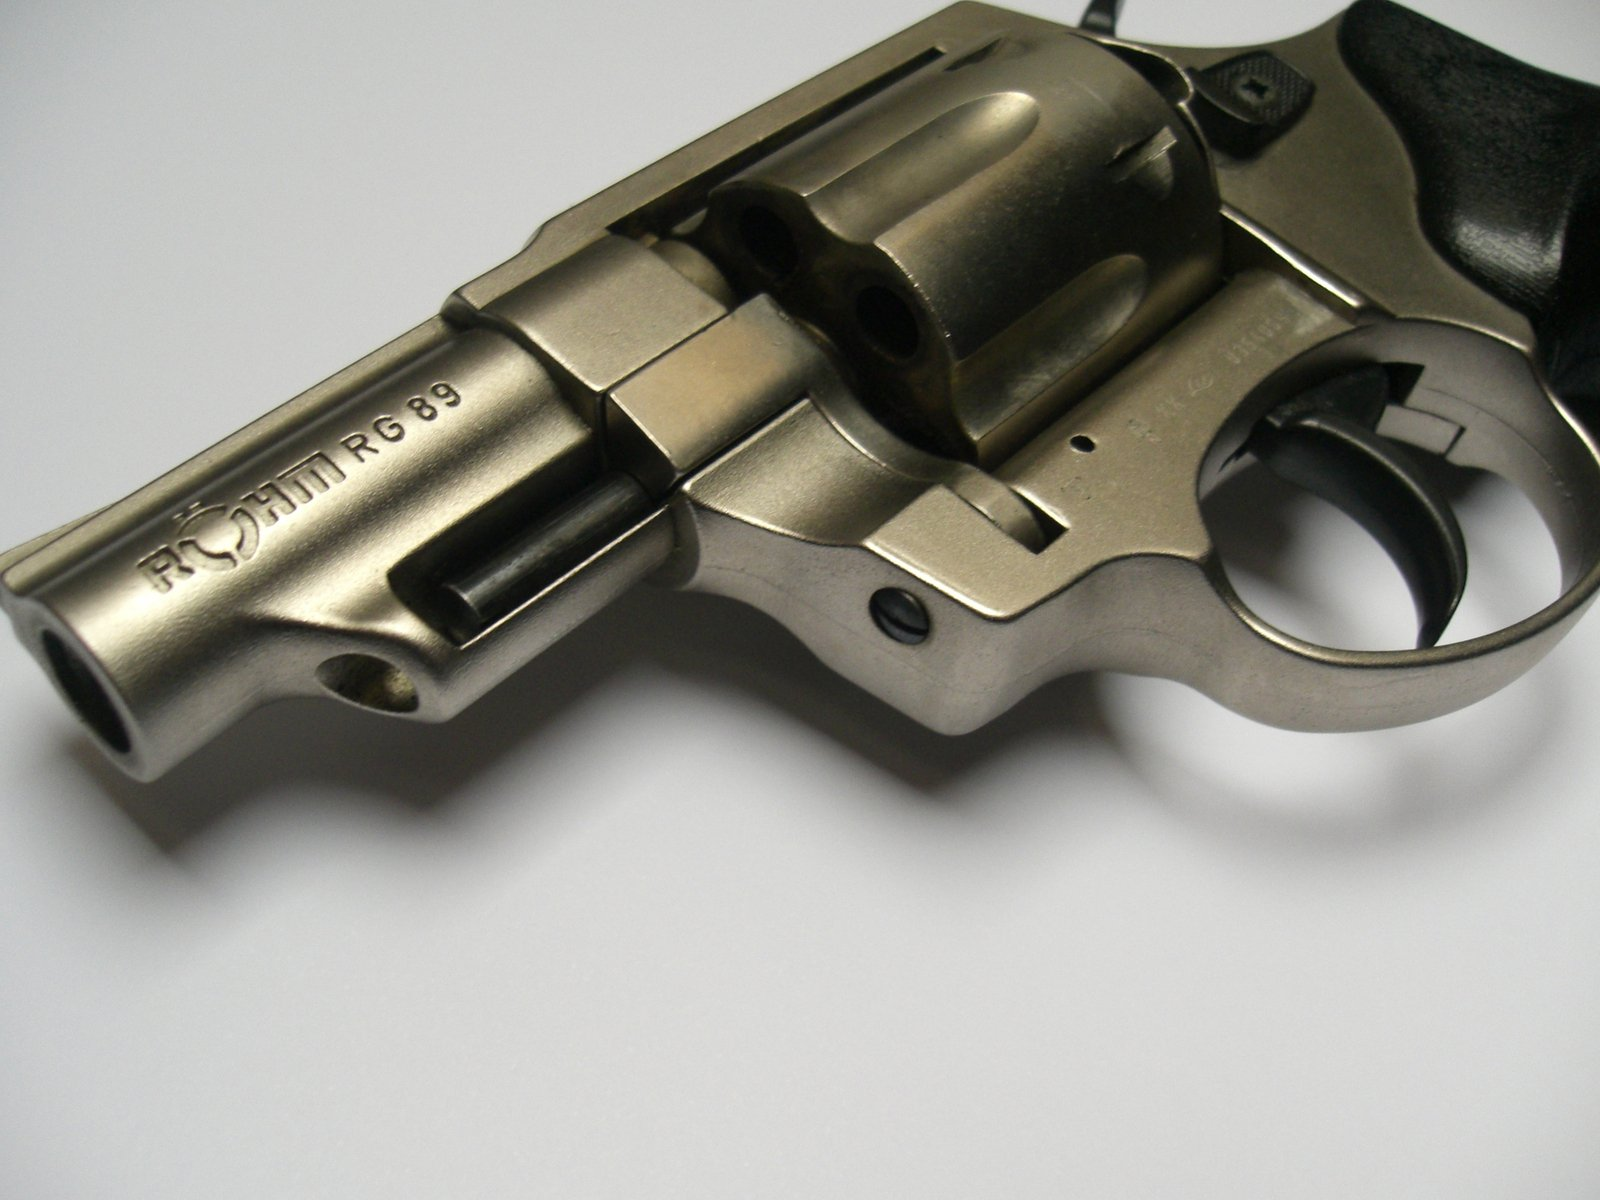gun: (0, 0, 1595, 1200)
